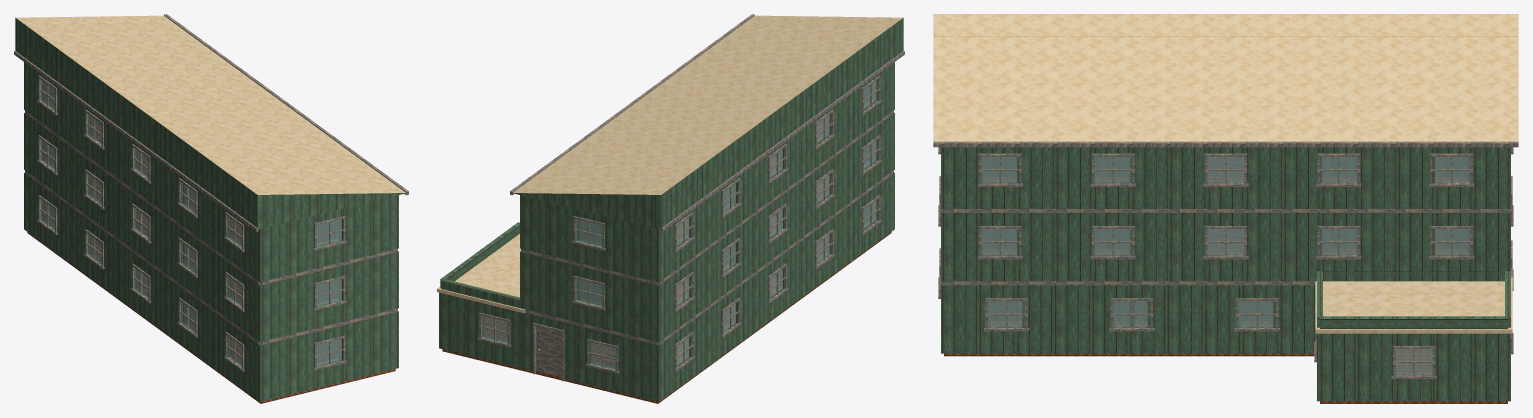
File: narrow-court.gltf
The picture shows the model from 3 angles, left to right: view 1: azimuth 30°, elevation 25°; view 2: azimuth 150°, elevation 25°; view 3: azimuth 270°, elevation 25°; orthographic projection. The views are drawn at different scales.
Parts seen in each view (by area): view 1: roof-L2-green-metal, exterior-L0-plaster, exterior-L1-plaster, exterior-L2-plaster, roof-L2-plaster, trim-L1-dark-wood, trim-L0-dark-wood, trim-L2-dark-wood, roof-L2-dark-wood, glazing-L0-glass, glazing-L1-glass, glazing-L2-glass (+6 smaller); view 2: roof-L2-green-metal, exterior-L0-plaster, exterior-L1-plaster, exterior-L2-plaster, roof-L2-plaster, trim-L0-dark-wood, roof-L0-green-metal, trim-L1-dark-wood, trim-L2-dark-wood, roof-L2-dark-wood, glazing-L0-glass, roof-L0-plaster (+8 smaller); view 3: roof-L2-green-metal, exterior-L0-plaster, exterior-L1-plaster, exterior-L2-plaster, roof-L0-green-metal, glazing-L1-glass, glazing-L2-glass, roof-L2-dark-wood, trim-L1-dark-wood, roof-L0-plaster, trim-L2-dark-wood, glazing-L0-glass (+9 smaller).
Boxes of the visible parts, x1,y1,x2,y2 form: roof-L2-green-metal: (16, 15, 405, 194); exterior-L0-plaster: (24, 172, 398, 401); exterior-L1-plaster: (24, 113, 398, 341); exterior-L2-plaster: (24, 62, 398, 282); roof-L2-plaster: (15, 18, 405, 229); trim-L1-dark-wood: (37, 135, 346, 311); trim-L0-dark-wood: (37, 195, 346, 371); trim-L2-dark-wood: (37, 75, 346, 252); roof-L2-dark-wood: (14, 14, 408, 231); glazing-L0-glass: (42, 201, 341, 365); glazing-L1-glass: (42, 141, 341, 305); glazing-L2-glass: (42, 81, 341, 245); roof-L2-green-metal: (513, 15, 902, 194); exterior-L0-plaster: (439, 172, 894, 401); exterior-L1-plaster: (520, 113, 894, 341); exterior-L2-plaster: (520, 62, 894, 282); roof-L2-plaster: (513, 18, 903, 228); trim-L0-dark-wood: (477, 195, 881, 381); roof-L0-green-metal: (437, 233, 525, 313); trim-L1-dark-wood: (572, 135, 881, 311); trim-L2-dark-wood: (572, 75, 881, 252); roof-L2-dark-wood: (510, 14, 904, 231); glazing-L0-glass: (482, 201, 876, 368); roof-L0-plaster: (440, 222, 519, 308); roof-L2-green-metal: (933, 14, 1518, 141); exterior-L0-plaster: (941, 284, 1510, 401); exterior-L1-plaster: (941, 212, 1510, 281); exterior-L2-plaster: (941, 147, 1510, 208); roof-L0-green-metal: (1315, 278, 1512, 333); glazing-L1-glass: (981, 229, 1470, 254); glazing-L2-glass: (981, 157, 1470, 182); roof-L2-dark-wood: (933, 141, 1518, 147); trim-L1-dark-wood: (938, 176, 1513, 259); roof-L0-plaster: (1317, 271, 1510, 328); trim-L2-dark-wood: (938, 147, 1513, 186); glazing-L0-glass: (988, 301, 1432, 374).
Size of the model in its own units: 8.48 by 7.58 by 15.56.
Materials: 8 (7 with a texture image).
